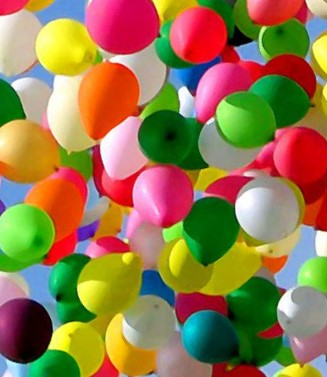Balloon: (78, 63, 138, 139), (75, 252, 142, 317), (86, 1, 161, 55), (183, 196, 239, 263), (237, 179, 299, 239), (1, 121, 60, 184), (131, 165, 191, 223), (215, 91, 277, 146), (1, 298, 52, 364), (36, 18, 94, 74), (169, 7, 227, 61), (1, 204, 55, 262), (139, 110, 194, 165), (225, 278, 283, 330), (182, 309, 240, 361), (274, 127, 327, 183), (97, 118, 145, 177), (123, 295, 175, 347), (1, 11, 38, 79), (159, 239, 209, 289), (276, 287, 327, 333), (257, 21, 307, 59)
